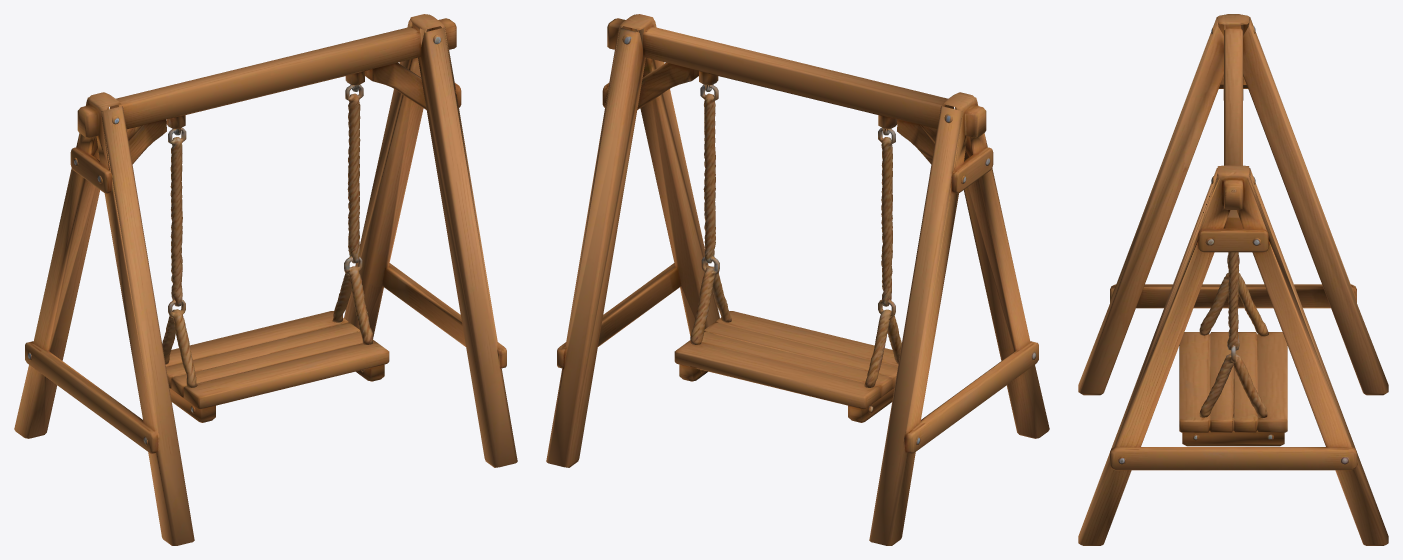
File: a_wooden_swing_set_8a665dfc_v3.glb
3 views of the same model, side by side, from view 1: azimuth 30°, elevation 25°; view 2: azimuth 150°, elevation 25°; view 3: azimuth 270°, elevation 25° (orthographic). The views are drawn at different scales.
Parts seen in each view (by area): view 1: material; view 2: material; view 3: material.
Boxes of the visible parts, x1,y1,x2,y2 form: material: (14,14,517,545); material: (546,14,1049,545); material: (1078,14,1388,545).
Bounding box in the file's own units: 1.9 × 1.9 × 1.44.
1 material, 1 textured.
